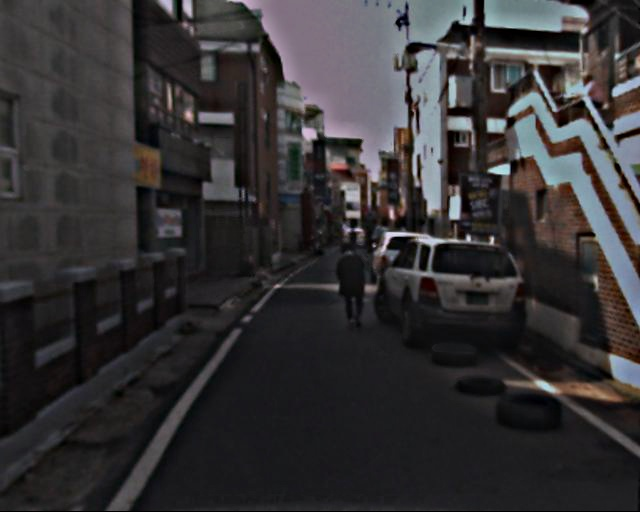person: (332, 239, 369, 330)
